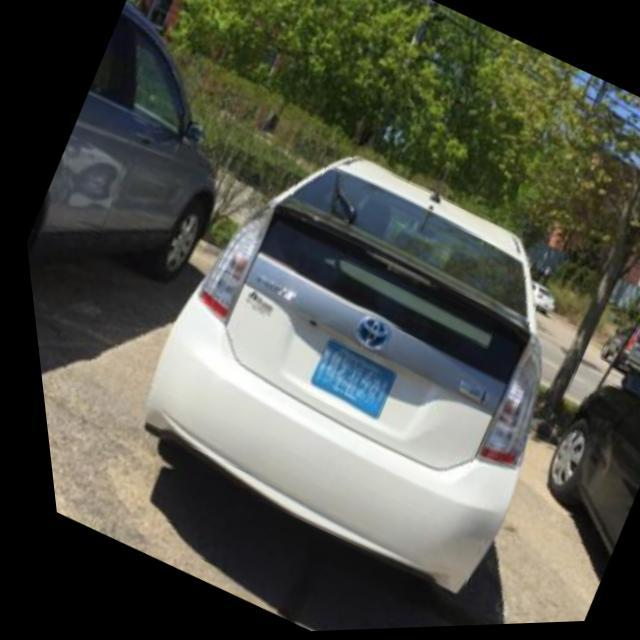license_plate: (294, 337, 393, 423)
